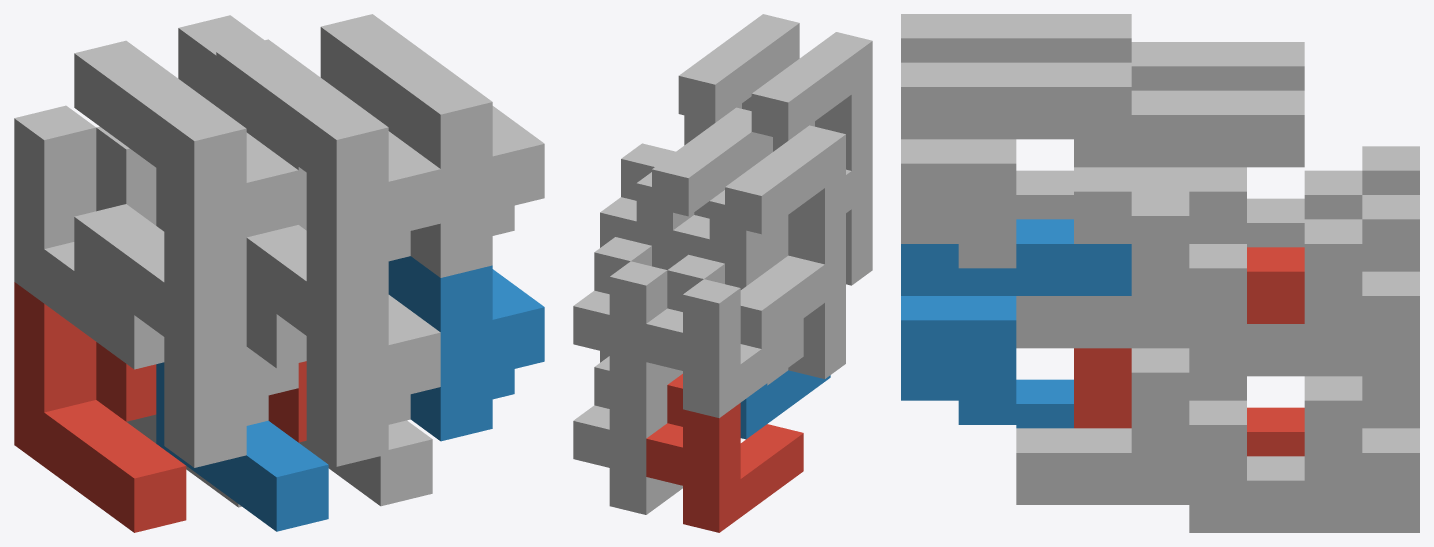
File: tiling.obj
The picture shows the model from 3 angles, left to right: view 1: azimuth 30°, elevation 25°; view 2: azimuth 150°, elevation 25°; view 3: azimuth 270°, elevation 25°; orthographic projection. The views are drawn at different scales.
Parts seen in each view (by area): view 1: copy_2_domain_4, copy_2_domain_3, copy_2_domain_8, copy_1_domain_1, copy_2_domain_1, copy_2_domain_2, copy_1_domain_3, copy_2_domain_6, copy_1_domain_2, copy_1_domain_6, copy_2_domain_7, copy_1_domain_4 (+2 smaller); view 2: copy_1_domain_3, copy_1_domain_1, copy_2_domain_3, copy_2_domain_4, copy_1_domain_7, copy_2_domain_1, copy_1_domain_5, copy_2_domain_8, copy_2_domain_7, copy_1_domain_8, copy_1_domain_4, copy_2_domain_2 (+1 smaller); view 3: copy_2_domain_8, copy_1_domain_6, copy_1_domain_8, copy_2_domain_6, copy_1_domain_5, copy_1_domain_7, copy_2_domain_7, copy_2_domain_4, copy_2_domain_5, copy_2_domain_3, copy_1_domain_3, copy_1_domain_1 (+3 smaller).
Part boxes in pixels (left/top/right/bottom): copy_2_domain_4: left=216, top=39, right=440, bottom=303; copy_2_domain_3: left=74, top=40, right=298, bottom=304; copy_2_domain_8: left=320, top=14, right=544, bottom=277; copy_1_domain_1: left=14, top=282, right=186, bottom=532; copy_2_domain_1: left=74, top=204, right=298, bottom=467; copy_2_domain_2: left=246, top=225, right=440, bottom=466; copy_1_domain_3: left=14, top=105, right=164, bottom=369; copy_2_domain_6: left=388, top=256, right=544, bottom=441; copy_1_domain_2: left=156, top=362, right=328, bottom=531; copy_1_domain_6: left=299, top=420, right=432, bottom=506; copy_2_domain_7: left=178, top=15, right=306, bottom=230; copy_1_domain_4: left=156, top=168, right=306, bottom=368; copy_1_domain_3: left=646, top=254, right=803, bottom=418; copy_1_domain_1: left=646, top=374, right=803, bottom=532; copy_2_domain_3: left=725, top=125, right=845, bottom=270; copy_2_domain_4: left=751, top=32, right=872, bottom=170; copy_1_domain_7: left=573, top=237, right=682, bottom=400; copy_2_domain_1: left=740, top=249, right=845, bottom=385; copy_1_domain_5: left=573, top=356, right=682, bottom=514; copy_2_domain_8: left=678, top=14, right=799, bottom=145; copy_2_domain_7: left=652, top=107, right=772, bottom=216; copy_1_domain_8: left=600, top=143, right=694, bottom=269; copy_1_domain_4: left=673, top=190, right=767, bottom=289; copy_2_domain_2: left=846, top=156, right=872, bottom=285; copy_2_domain_8: left=901, top=62, right=1131, bottom=268; copy_1_domain_6: left=1016, top=348, right=1246, bottom=504; copy_1_domain_8: left=1016, top=167, right=1246, bottom=348; copy_2_domain_6: left=901, top=219, right=1131, bottom=424; copy_1_domain_5: left=1189, top=376, right=1419, bottom=532; copy_1_domain_7: left=1247, top=195, right=1419, bottom=376; copy_2_domain_7: left=1074, top=90, right=1304, bottom=243; copy_2_domain_4: left=901, top=14, right=1131, bottom=62; copy_2_domain_5: left=1074, top=247, right=1304, bottom=428; copy_2_domain_3: left=1131, top=42, right=1304, bottom=90; copy_1_domain_3: left=1304, top=146, right=1419, bottom=219; copy_1_domain_1: left=1247, top=407, right=1304, bottom=456.
Size of the model in its own units: 5 by 9 by 9.
